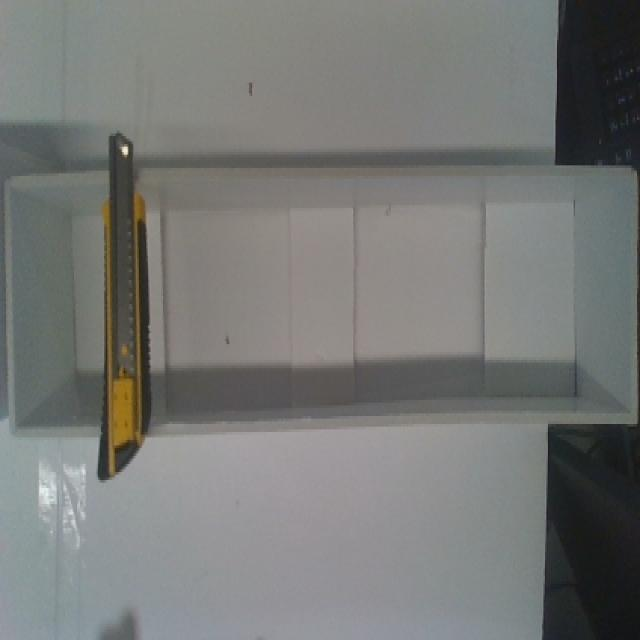estilete: (98, 133, 150, 480)
